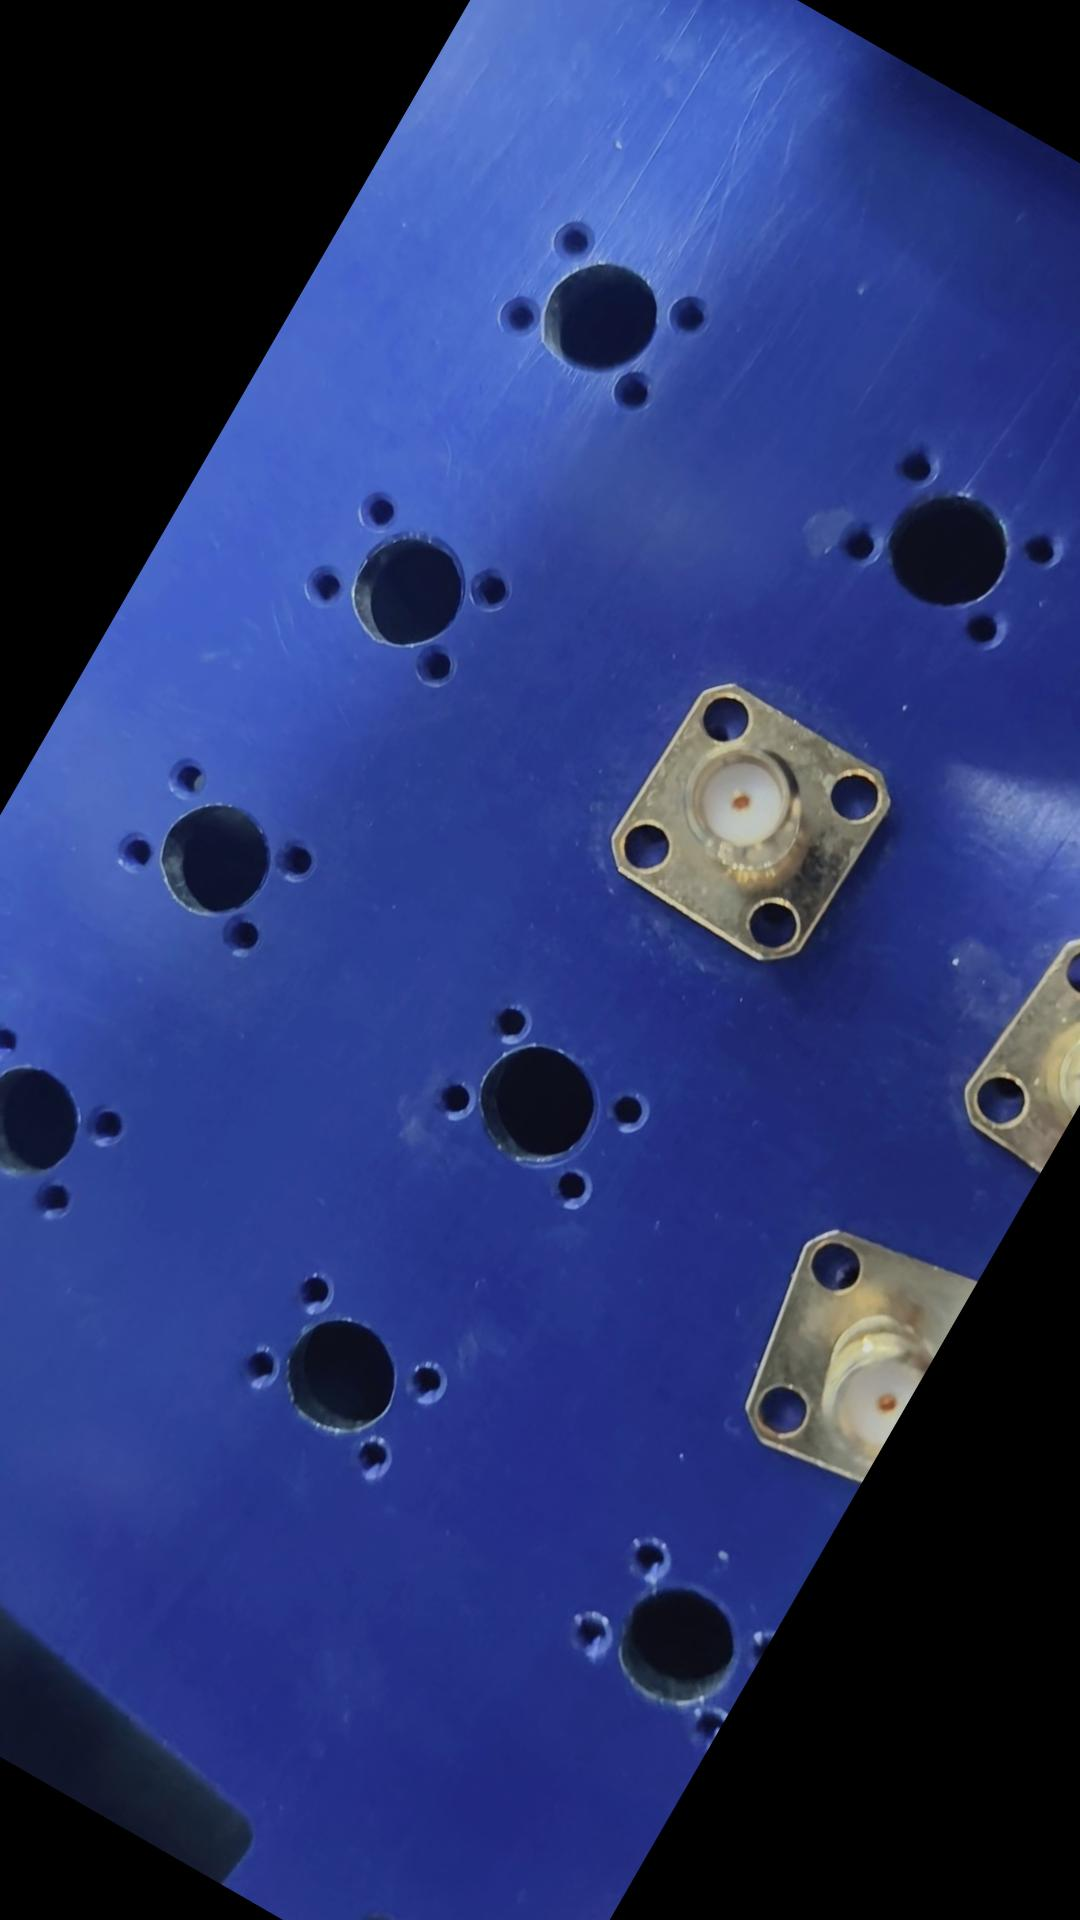SMA: (585, 667, 909, 984)
